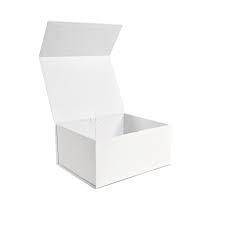box: (39, 22, 173, 188)
